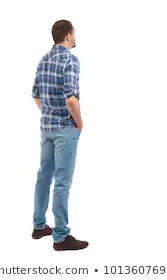person: (23, 14, 87, 111)
